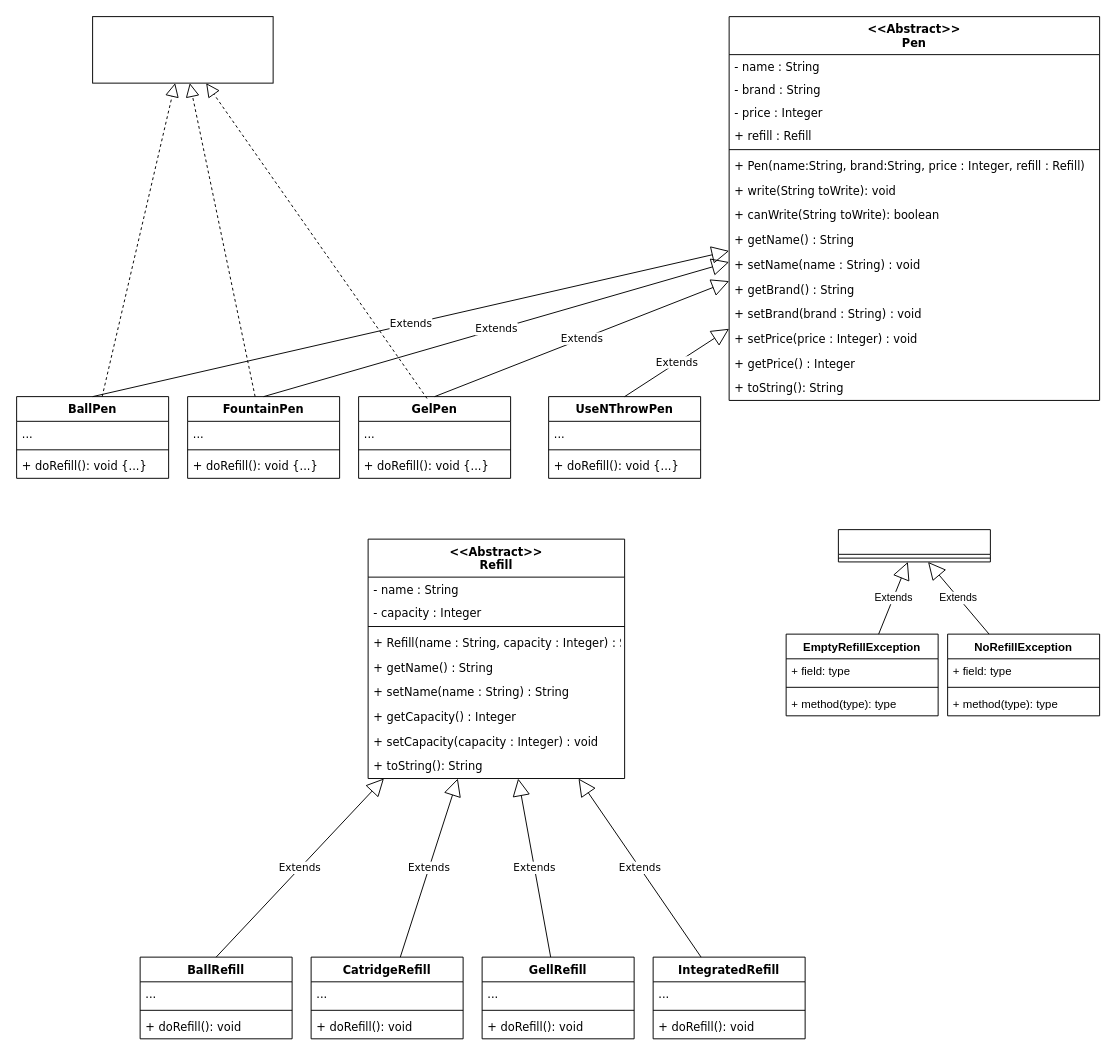
The diagram is 1116 pixels wide and 1058 high, and some of its shapes have lost their labels. Here are the shapes that lost their labels. From the top down, the centre of each, then its label:
point 182,49: <<Interface>> Refillable + doRefill() : void
point 913,545: RuntimeException
